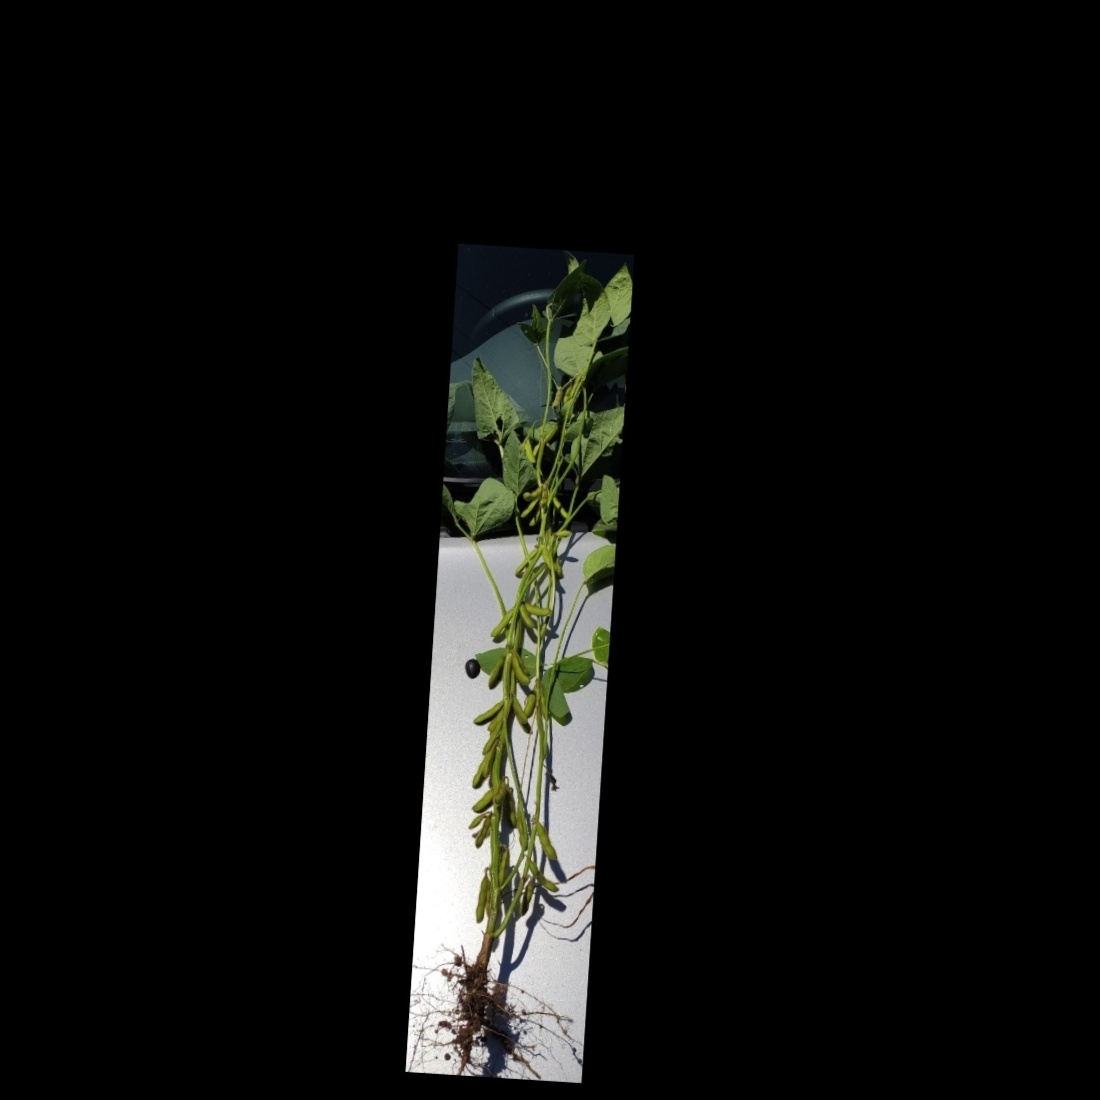pod: (529, 816, 560, 866), (526, 859, 561, 896), (472, 696, 508, 728), (471, 868, 492, 924), (506, 693, 533, 730), (489, 601, 514, 640), (484, 651, 506, 692), (508, 656, 533, 687), (473, 815, 493, 855), (467, 786, 493, 815), (520, 601, 554, 618), (521, 483, 543, 502)
soy: (406, 257, 628, 1068)
